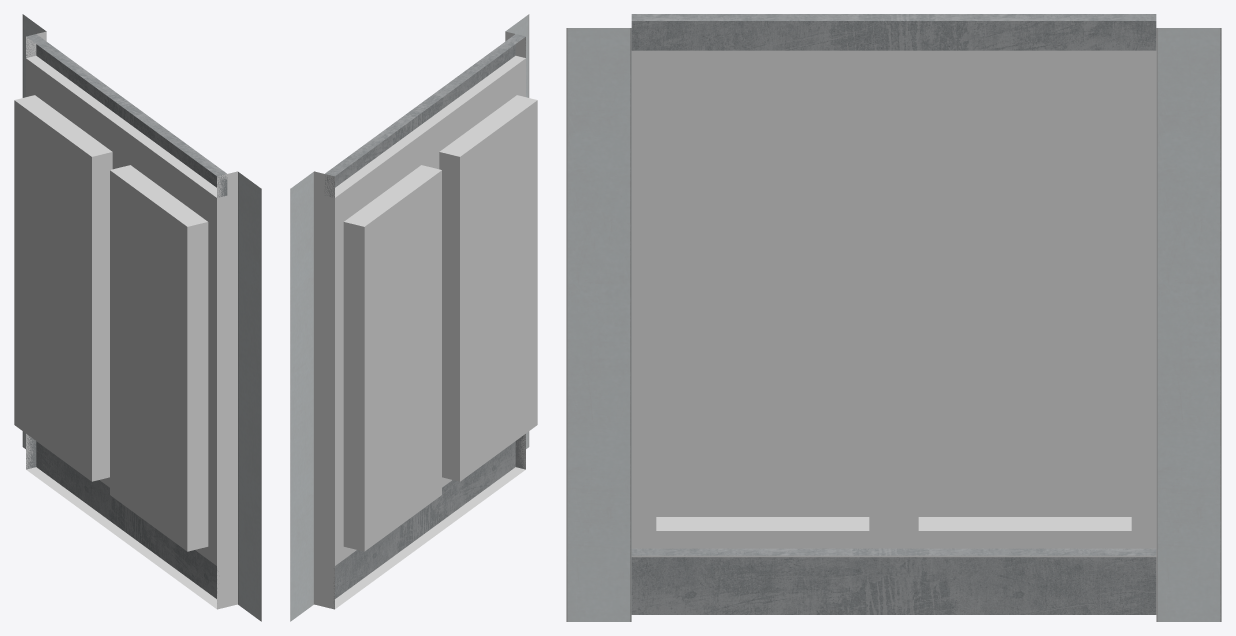
File: Bld_Wall_01.fbx
3 renders of one model, left to right at view 1: azimuth 30°, elevation 25°; view 2: azimuth 150°, elevation 25°; view 3: azimuth 270°, elevation 25°, orthographic. The views are drawn at different scales.
Parts seen in each view (by area): view 1: Bld_Wall_01; view 2: Bld_Wall_01; view 3: Bld_Wall_01.
Boxes of the visible parts, x1=… form: Bld_Wall_01: x1=14, y1=14, x2=261, y2=621; Bld_Wall_01: x1=290, y1=14, x2=537, y2=621; Bld_Wall_01: x1=566, y1=14, x2=1221, y2=621.
Bounding box in the file's own units: 0.4 × 4 × 4.
2 materials, 1 textured.
